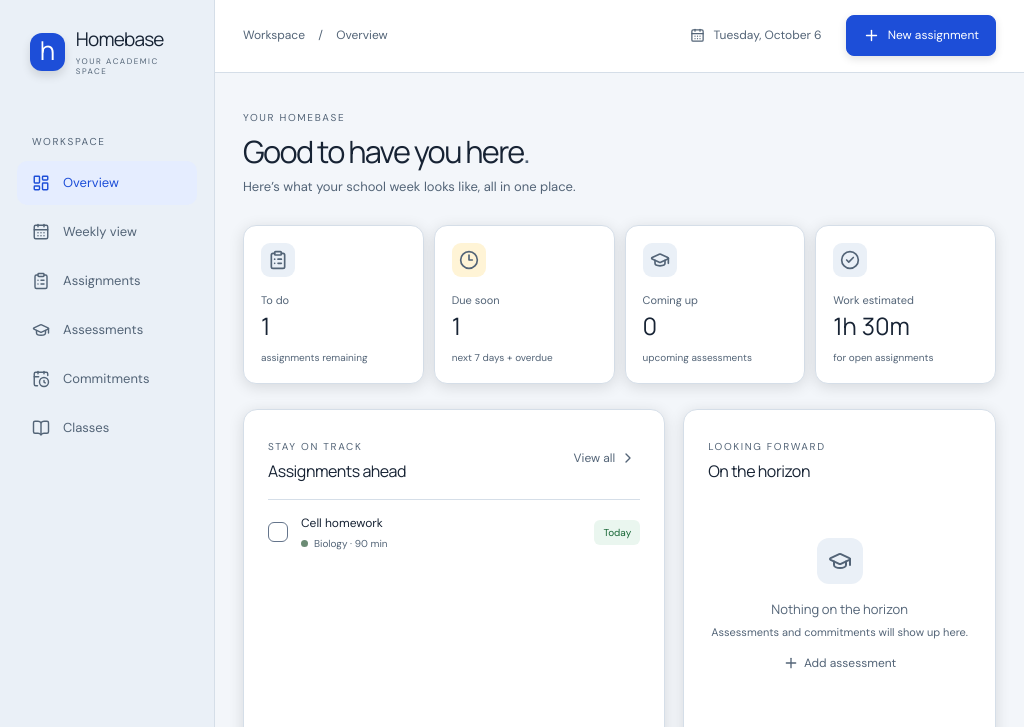
Scenario: offers customization and locks generated work as persisted intent
Click the button "Weekly view": [107, 232] box [17,210,197,254]
(page scrolled)
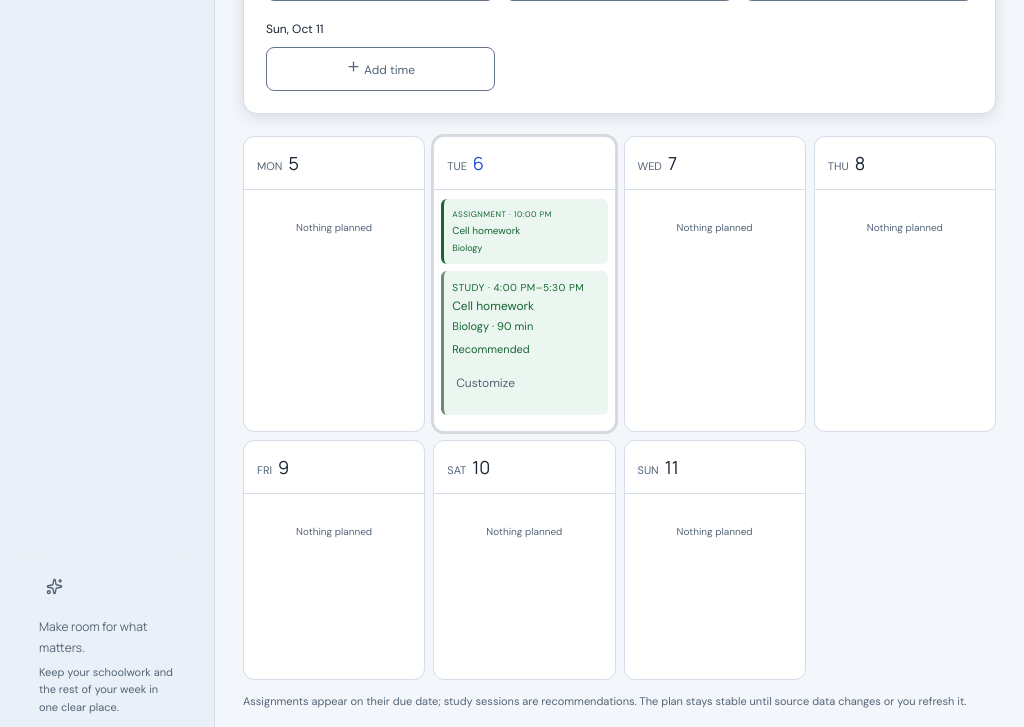
Click the button with aria-label "Customize study:": [486, 382] box [452,360,519,404]
(page scrolled)
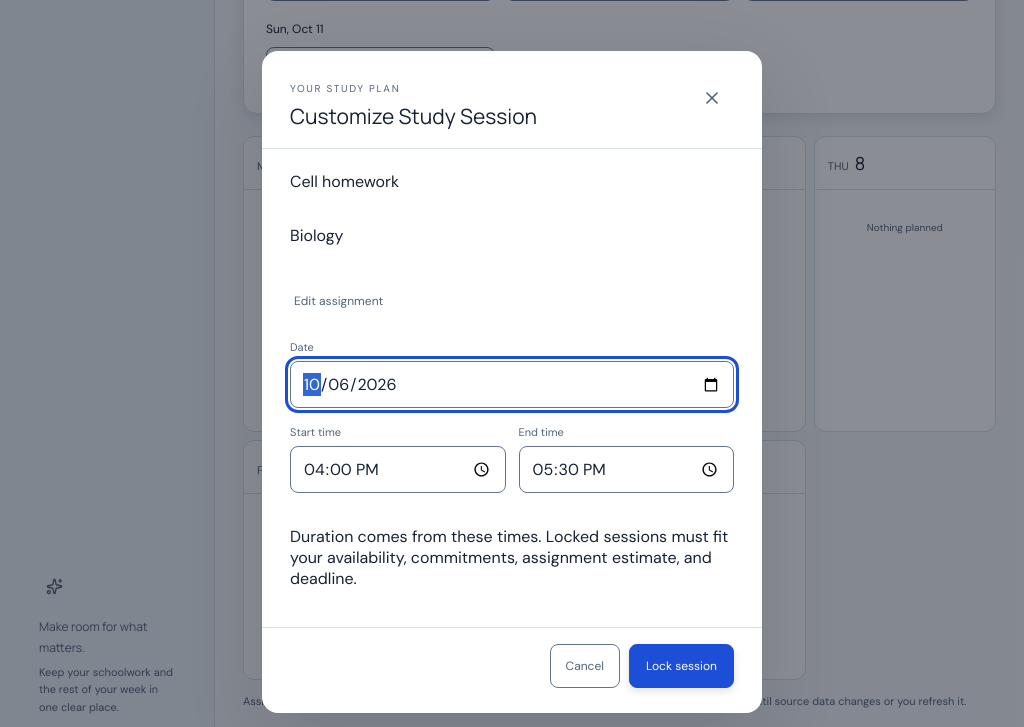
Now the heading "Customize study session" is shown, box [290,102,537,130]
Click the button "Lock session": [681, 666] box [629,644,734,688]
(page scrolled)
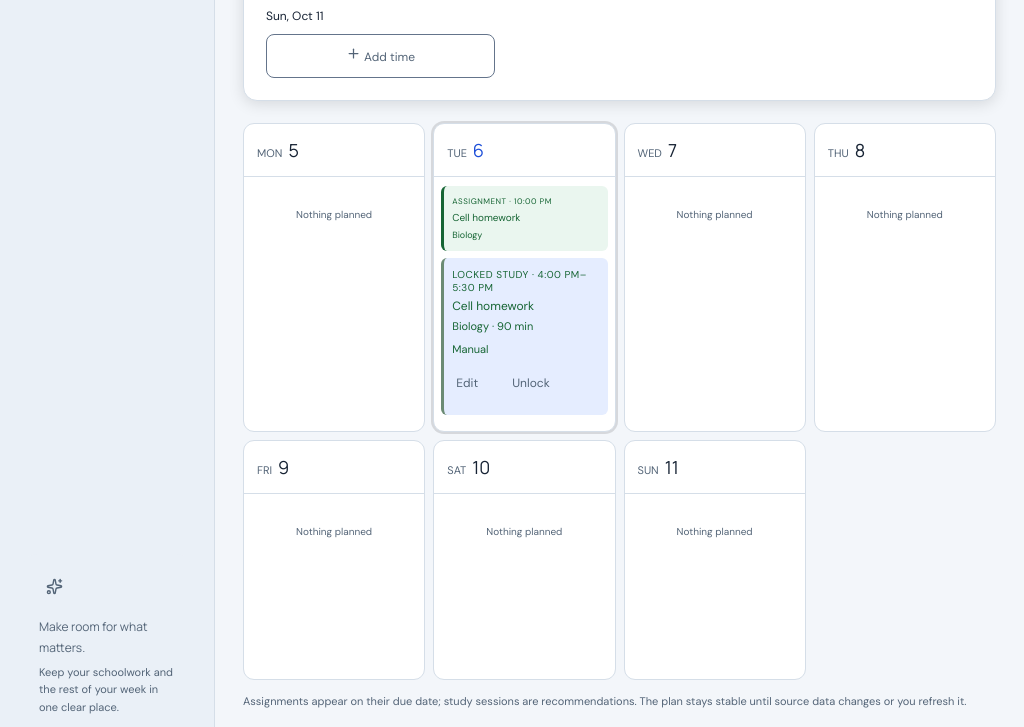
Now the dialog is gone
Now the text "LOCKED STUDY · 4:00 PM–5:30 PM" is shown, box [452,268,600,294]
